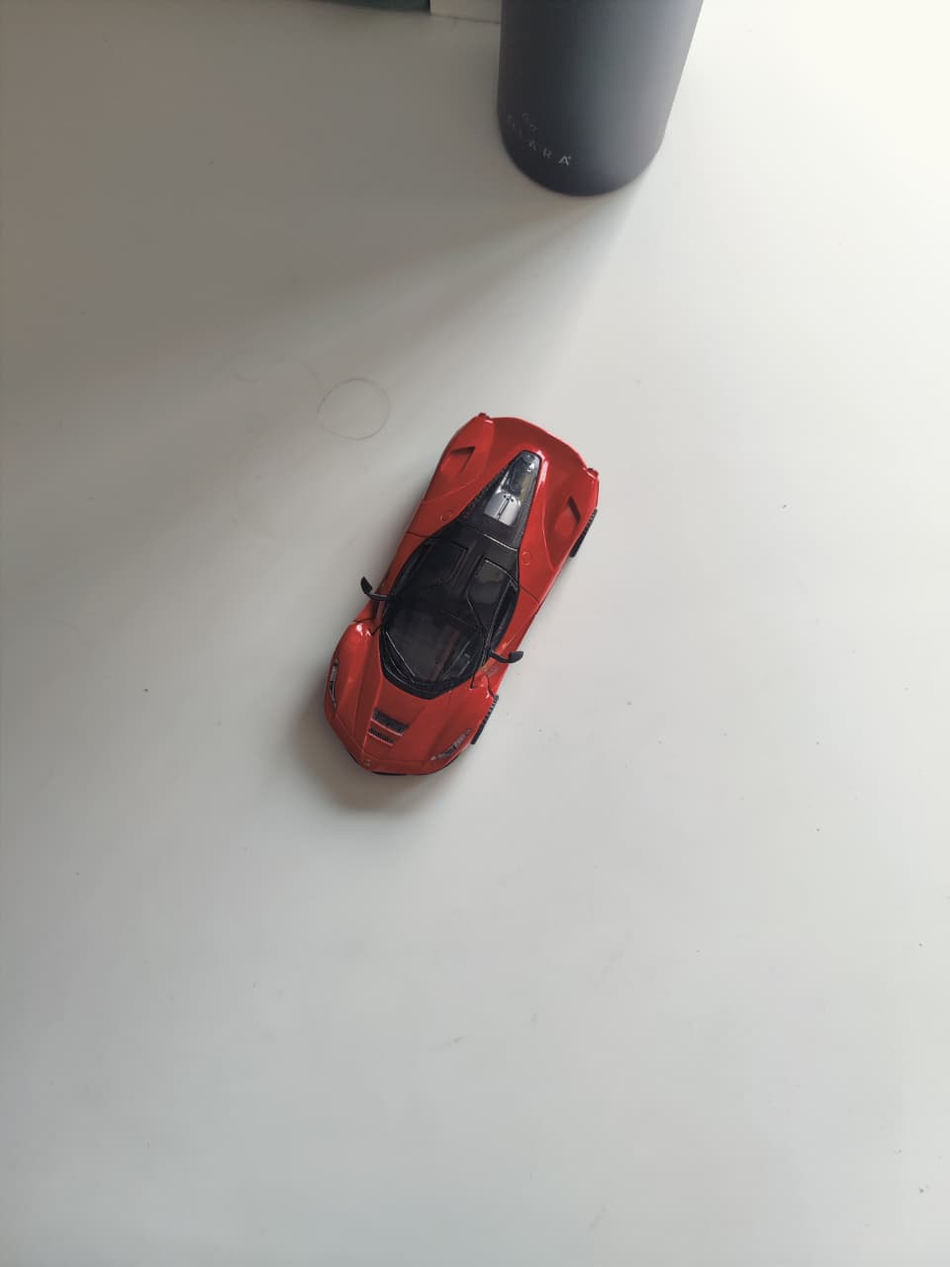car: (325, 411, 598, 776)
